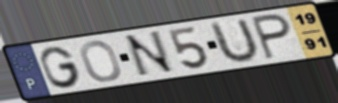5: (165, 25, 210, 70)
G: (38, 45, 84, 90)
N: (121, 29, 179, 80)
O: (79, 39, 124, 84)
P: (249, 12, 293, 62)
U: (209, 17, 261, 66)
